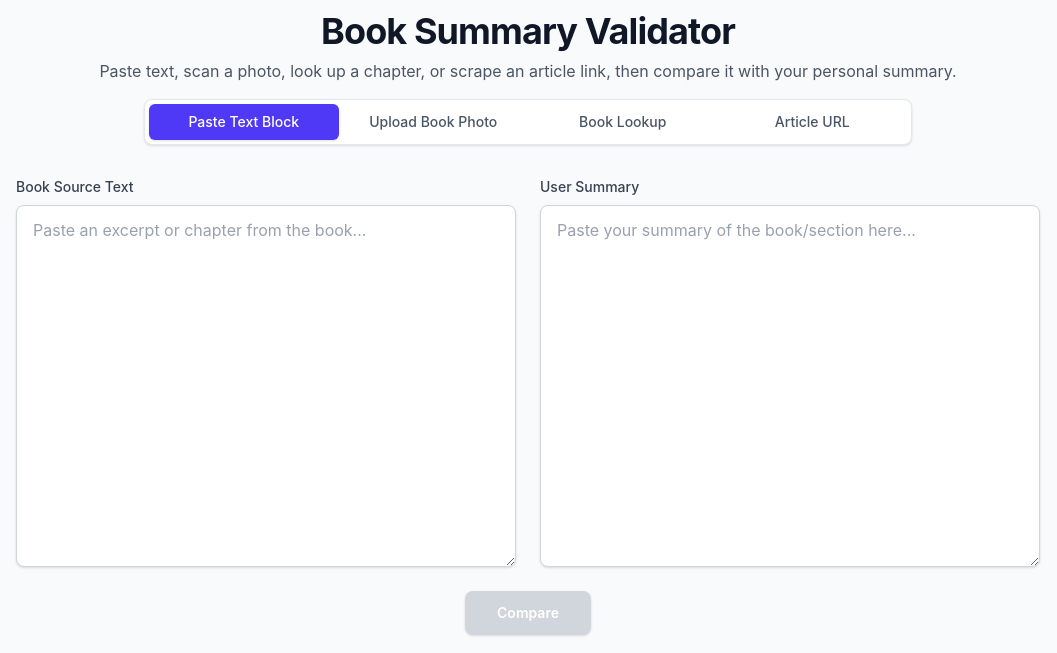
Test case: App › switches to book lookup mode and shows lookup form
Click the tab "Book Lookup": coordinates (623, 122) [528,104,718,140]
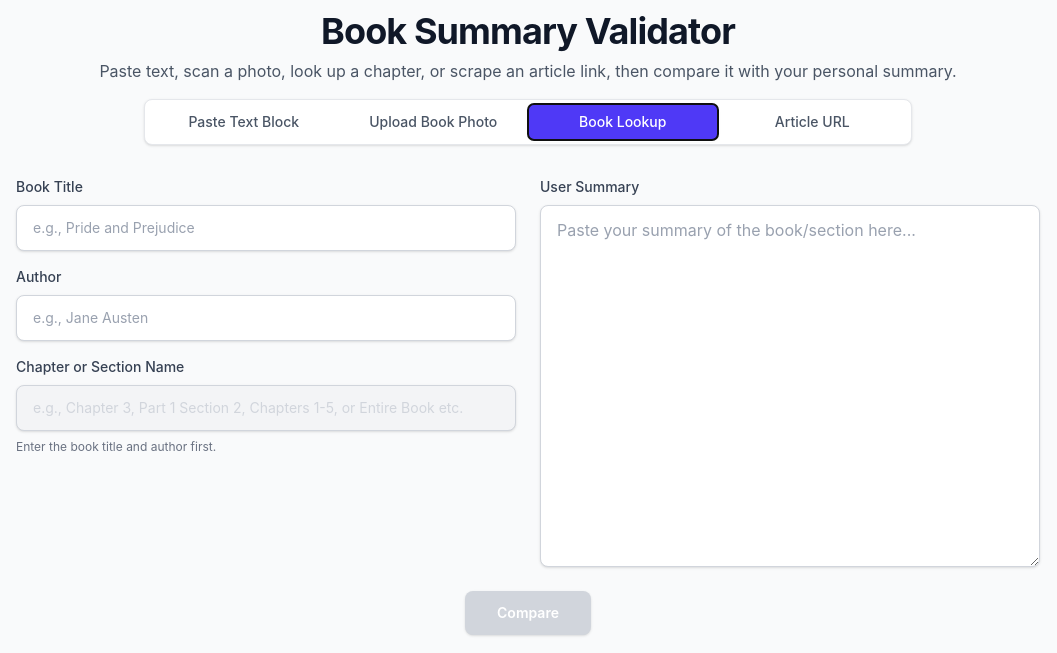
Now the field labelled "Book Title" is shown, box [16,205,516,251]
Now the field labelled "Author" is shown, box [16,295,516,341]
Now the field labelled "Chapter or Section Name" is disabled, box [16,385,516,431]
